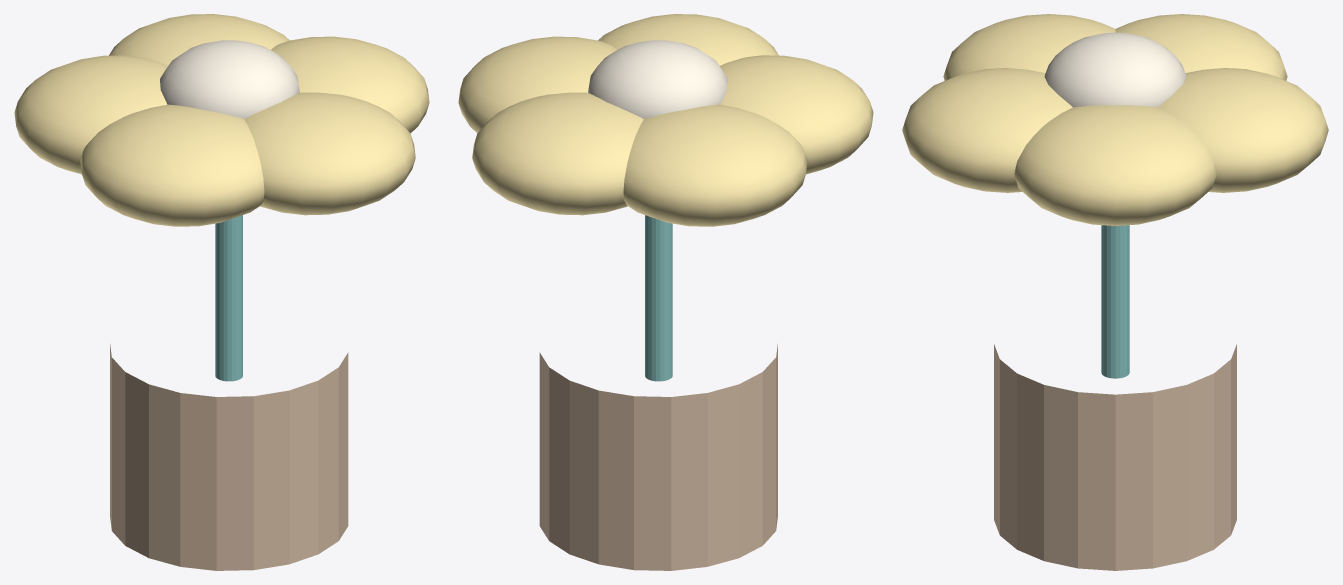
Rendered from plant-sunflower.glb.
3 renders of one model, left to right at view 1: azimuth 30°, elevation 25°; view 2: azimuth 150°, elevation 25°; view 3: azimuth 270°, elevation 25°, orthographic.
Parts seen in each view (by area): view 1: pot, petal2, petal1, petal3, petal0, center, petal4, stem; view 2: pot, petal3, petal4, petal2, petal0, center, petal1, stem; view 3: pot, petal0, petal1, petal4, center, petal2, petal3, stem.
Boxes of the visible parts, bbox=[...] form: pot: bbox=[110, 344, 348, 570]; petal2: bbox=[80, 104, 264, 226]; petal1: bbox=[244, 92, 415, 215]; petal3: bbox=[14, 55, 167, 174]; petal0: bbox=[271, 36, 429, 133]; center: bbox=[160, 40, 299, 118]; petal4: bbox=[109, 14, 289, 65]; stem: bbox=[215, 215, 242, 381]; pot: bbox=[539, 344, 777, 570]; petal3: bbox=[623, 104, 807, 226]; petal4: bbox=[472, 92, 643, 215]; petal2: bbox=[720, 55, 873, 174]; petal0: bbox=[458, 36, 616, 133]; center: bbox=[588, 40, 727, 118]; petal1: bbox=[598, 14, 778, 65]; stem: bbox=[645, 215, 672, 381]; pot: bbox=[994, 344, 1236, 570]; petal0: bbox=[1014, 105, 1216, 225]; petal1: bbox=[902, 68, 1072, 192]; petal4: bbox=[1158, 68, 1328, 192]; center: bbox=[1044, 32, 1186, 107]; petal2: bbox=[943, 14, 1115, 80]; petal3: bbox=[1115, 14, 1287, 80]; stem: bbox=[1101, 225, 1129, 378].
Size of the model in its own units: 0.5133 by 0.65 by 0.5263.
